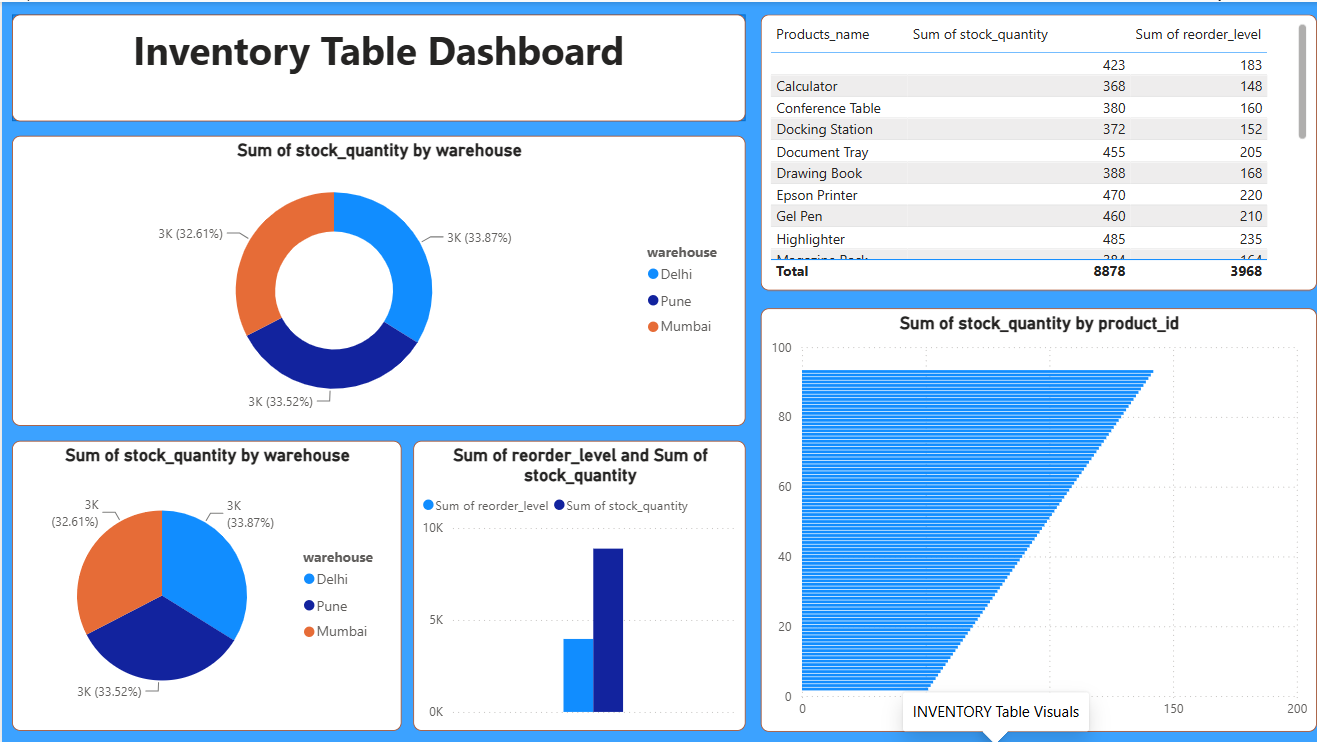

What the dashboard file says about the page in this screenshot:
{"tool":"powerbi","page":{"name":"INVENTORY Table Visuals","canvas":[1280,720],"ordinal":4},"visuals":[{"type":"clusteredBarChart","fields":{"Category":["inventory.product_id"],"Y":["Sum(inventory.stock_quantity)"]},"box":[732.8,295,536.5,408.9],"z":0},{"type":"pieChart","fields":{"Category":["inventory.warehouse"],"Y":["Sum(inventory.stock_quantity)"]},"box":[9.6,424,376,279.9],"z":1000},{"type":"tableEx","fields":{"Values":["inventory.product_id","Sum(inventory.stock_quantity)","Sum(inventory.reorder_level)"]},"box":[732.8,12.3,536.5,266.2],"z":2000},{"type":"donutChart","fields":{"Category":["inventory.warehouse"],"Y":["Sum(inventory.stock_quantity)"]},"box":[9.6,129,708.1,279.9],"z":3000},{"type":"clusteredColumnChart","fields":{"Y":["Sum(inventory.reorder_level)","Sum(inventory.stock_quantity)"]},"box":[396.6,424,321.1,279.9],"z":4000},{"type":"shape","box":[9.6,12.3,708.1,102.9],"z":5000},{"type":"textbox","box":[9.6,12.3,708.1,102.9],"z":6000}]}

Visuals, with their boxes in screenshot pixels (x1, y1, x2, y2), scaled from the page's 1280x720 canvas onto the 1317x742 screenshot:
clusteredBarChart - inventory.product_id x Sum(inventory.stock_quantity): {"left": 754, "top": 304, "right": 1306, "bottom": 725}
pieChart - inventory.warehouse x Sum(inventory.stock_quantity): {"left": 10, "top": 437, "right": 397, "bottom": 725}
tableEx - inventory.product_id x Sum(inventory.stock_quantity): {"left": 754, "top": 13, "right": 1306, "bottom": 287}
donutChart - inventory.warehouse x Sum(inventory.stock_quantity): {"left": 10, "top": 133, "right": 738, "bottom": 421}
clusteredColumnChart - Sum(inventory.reorder_level) x Sum(inventory.stock_quantity): {"left": 408, "top": 437, "right": 738, "bottom": 725}
shape: {"left": 10, "top": 13, "right": 738, "bottom": 119}
textbox: {"left": 10, "top": 13, "right": 738, "bottom": 119}
